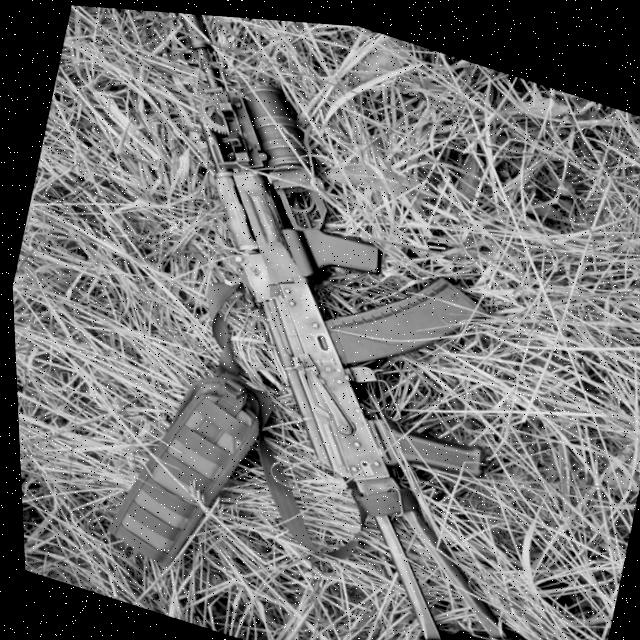firearm: (32, 2, 640, 640)
